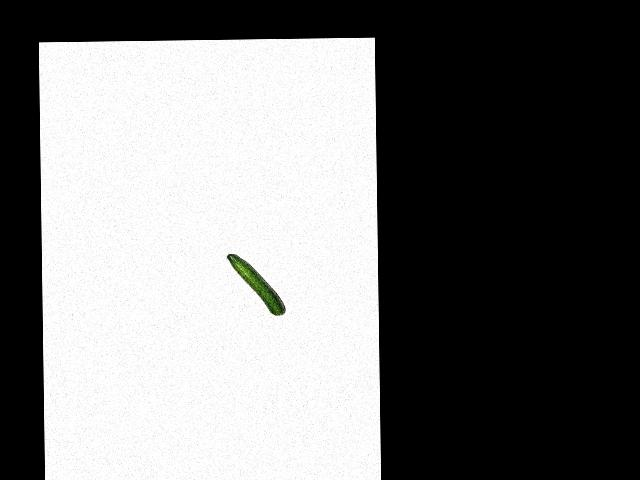cucumber: (227, 253, 285, 316)
